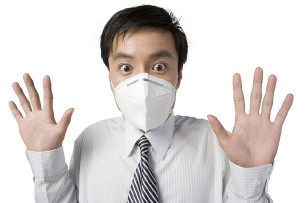Mask: (108, 49, 179, 119)
